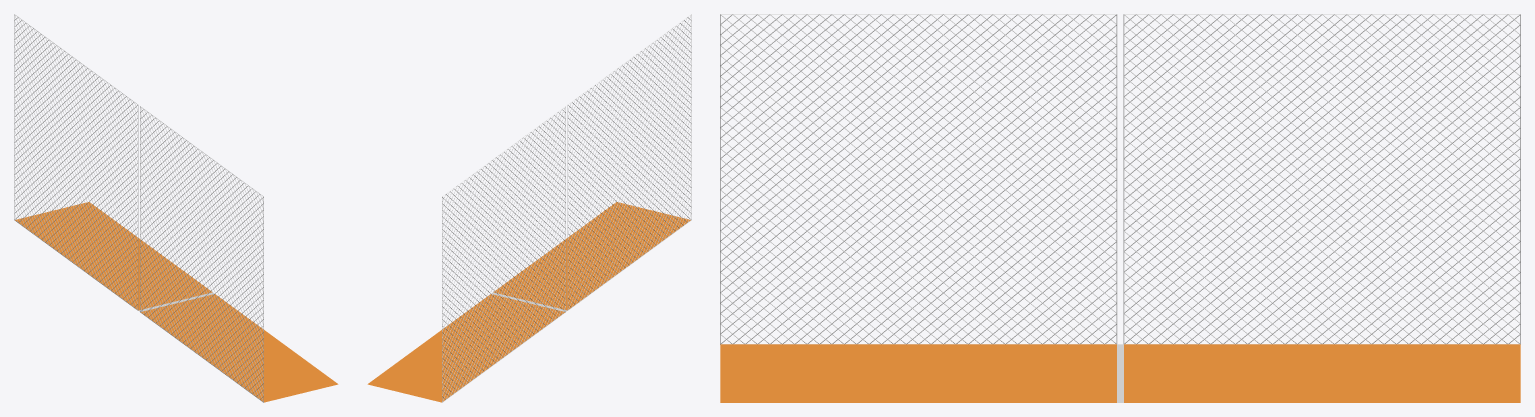
File: Side Net.fbx
3 renders of one model, left to right at view 1: azimuth 30°, elevation 25°; view 2: azimuth 150°, elevation 25°; view 3: azimuth 270°, elevation 25°, orthographic. The views are drawn at different scales.
Parts seen in each view (by area): view 1: Side Net; view 2: Side Net; view 3: Side Net.
Part boxes in pixels (x1,y1,x2,y2): Side Net: (14, 14, 338, 402); Side Net: (367, 14, 691, 402); Side Net: (720, 14, 1520, 402).
Bounding box in the file's own units: 3.12 × 8.18 × 17.96.
